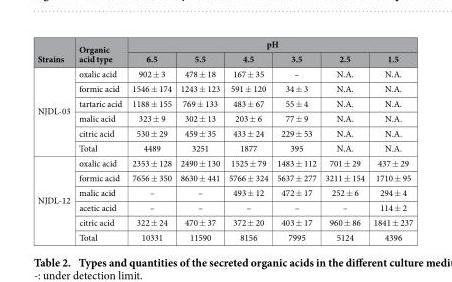table: (36, 37, 412, 242)
table column: (73, 37, 126, 242), (126, 37, 175, 242), (271, 37, 320, 242), (175, 37, 223, 242), (223, 37, 271, 242), (320, 37, 368, 242), (368, 37, 412, 242), (36, 37, 73, 242)
table column header: (36, 37, 412, 65)
table row: (36, 50, 412, 65), (36, 65, 412, 80), (36, 80, 412, 95), (36, 95, 412, 110), (36, 110, 412, 125), (36, 125, 412, 140), (36, 140, 412, 155), (36, 169, 412, 184), (36, 184, 412, 199), (36, 199, 412, 214), (36, 214, 412, 229), (36, 155, 412, 169), (36, 37, 412, 50), (36, 229, 412, 242)
table spanning cell: (126, 37, 412, 50), (36, 65, 73, 155), (36, 155, 73, 242), (73, 37, 126, 65), (36, 37, 73, 65)
